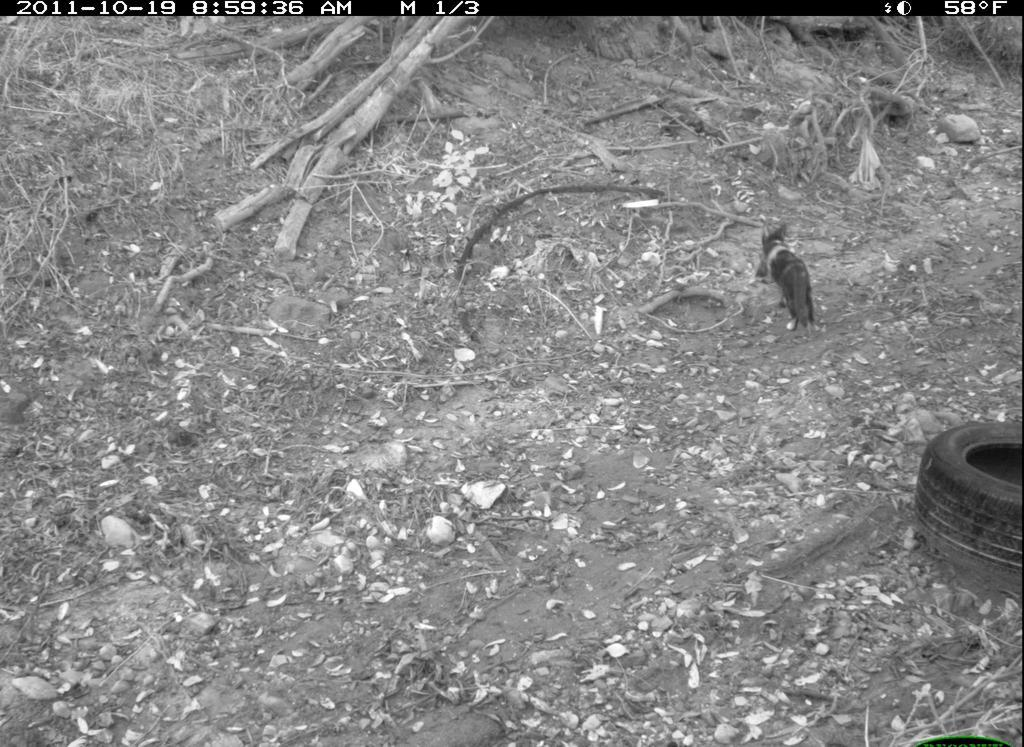cat: (753, 212, 822, 347)
